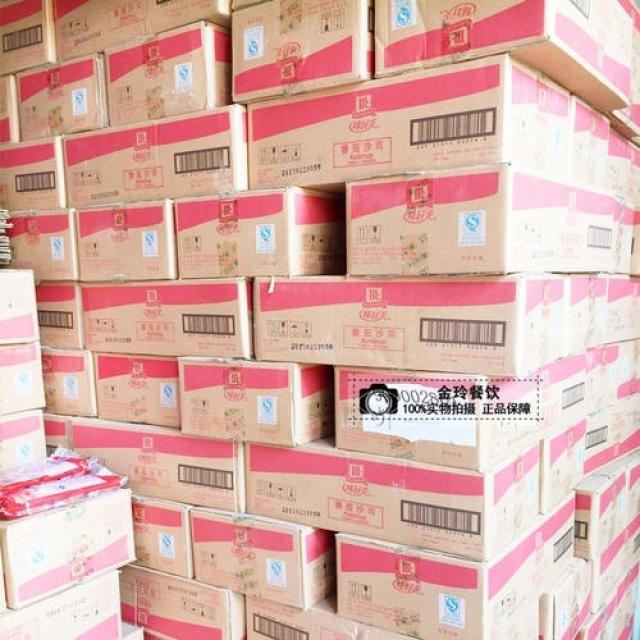box: (247, 54, 572, 195), (244, 434, 541, 563), (335, 486, 573, 640), (253, 274, 567, 378), (346, 163, 636, 275), (374, 0, 635, 114), (334, 366, 541, 470), (60, 102, 248, 209), (69, 416, 246, 513), (1, 490, 137, 611), (173, 187, 346, 278), (189, 506, 335, 611), (232, 0, 374, 106), (177, 356, 337, 449), (104, 18, 232, 127), (81, 278, 255, 358), (54, 0, 234, 61), (118, 566, 246, 640), (74, 200, 179, 283), (15, 51, 109, 141), (0, 571, 122, 640), (95, 353, 180, 429), (131, 493, 197, 580), (5, 209, 81, 284), (572, 460, 627, 562), (602, 1, 640, 148), (244, 591, 358, 639), (0, 136, 68, 212), (591, 515, 640, 618), (538, 416, 586, 517), (539, 556, 593, 640), (586, 393, 640, 476), (540, 351, 590, 439), (588, 339, 640, 415), (567, 93, 609, 187), (562, 274, 609, 358), (40, 348, 96, 416), (35, 283, 86, 351), (0, 342, 47, 415), (0, 408, 47, 472), (0, 269, 40, 343), (608, 129, 640, 207), (604, 275, 640, 343), (572, 589, 617, 640), (617, 449, 640, 529), (617, 563, 640, 640), (499, 599, 539, 640), (0, 74, 22, 146), (44, 413, 70, 457), (617, 614, 640, 640), (119, 621, 143, 640)
